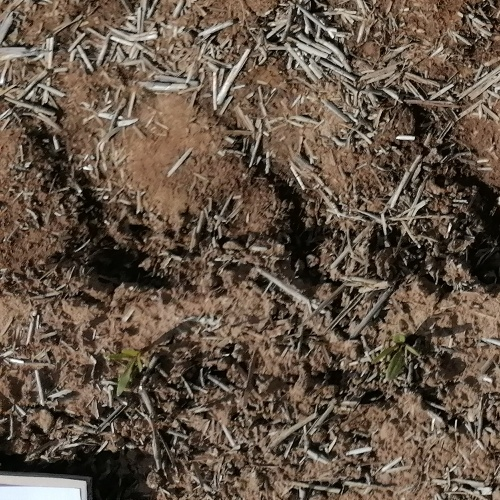beet: (379, 335, 413, 391), (117, 350, 144, 398)
